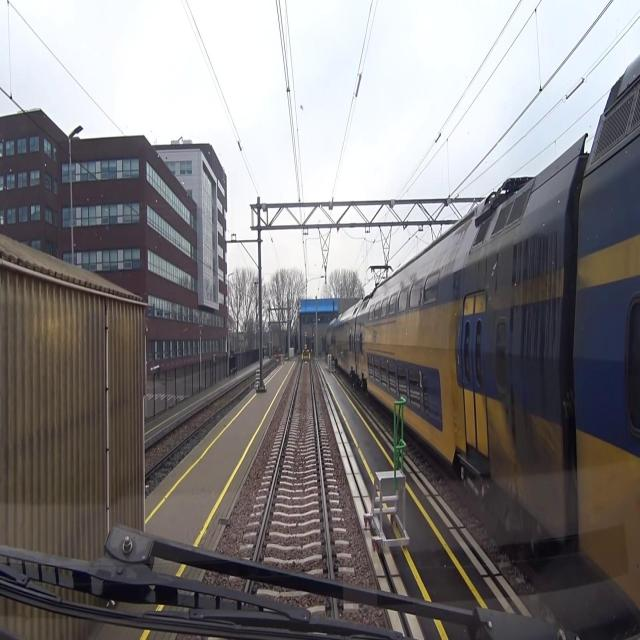rail-track: (257, 361, 329, 574)
